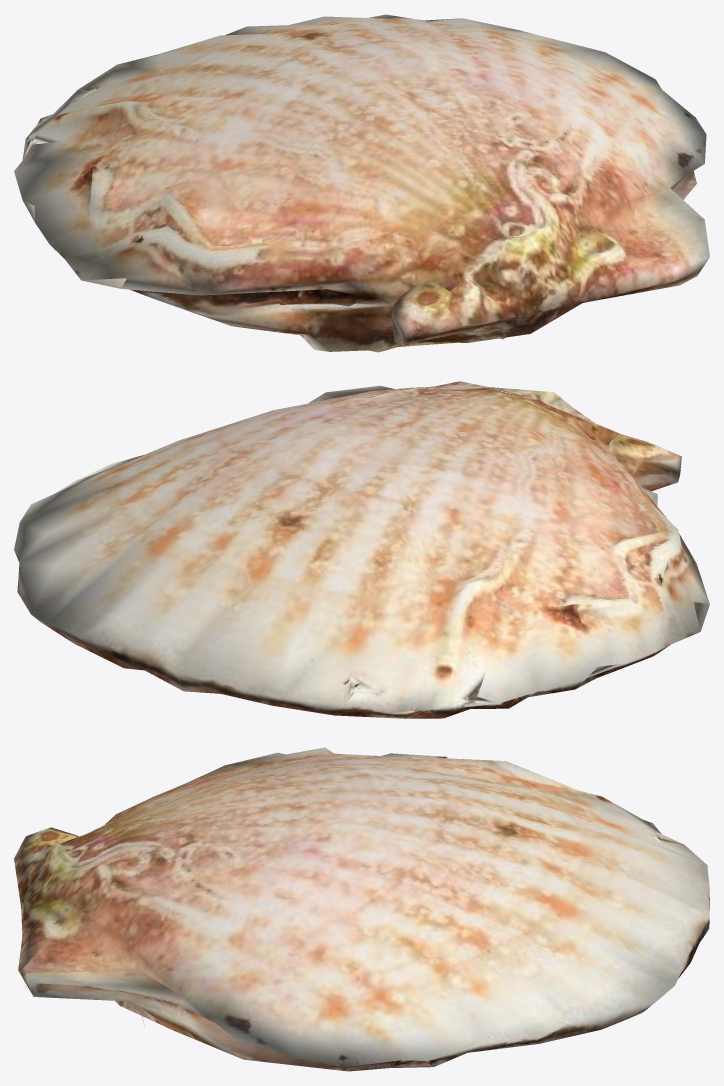
Rendered from scan_scallop.glb.
The picture shows the model from 3 angles, top to bottom: view 1: azimuth 30°, elevation 25°; view 2: azimuth 150°, elevation 25°; view 3: azimuth 270°, elevation 25°; orthographic projection.
Parts seen in each view (by area): view 1: scan_scallop; view 2: scan_scallop; view 3: scan_scallop.
Part boxes in pixels (x1,y1,x2,y2): scan_scallop: [14, 14, 709, 352]; scan_scallop: [14, 381, 709, 718]; scan_scallop: [14, 747, 709, 1071].
Size of the model in its own units: 0.0898 by 0.0269 by 0.0883.
1 material, 1 textured.
